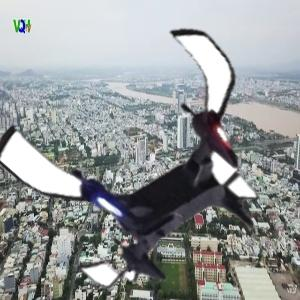drone: (13, 20, 288, 295)
